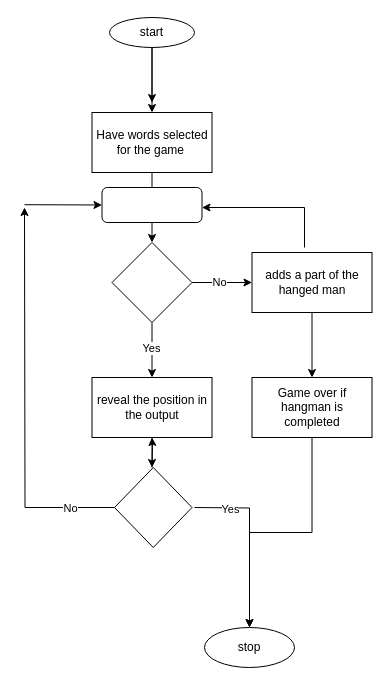
Image size: 390x685. Some labels were removed from this diagram. Each missing label, with the centre of its shape:
Ask for input: the point at 151,204
if input matches with anu of the words: the point at 151,282
Word is complted: the point at 153,507
